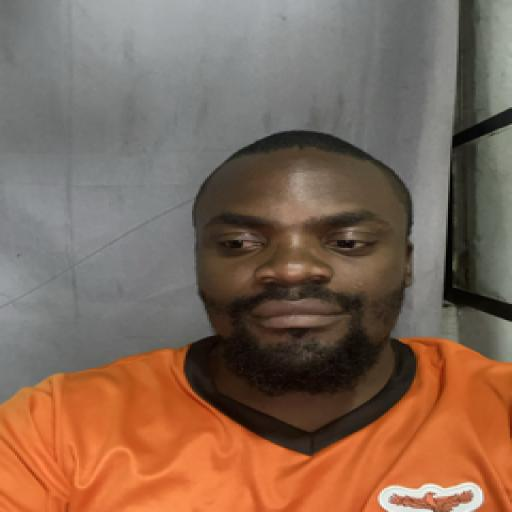JEANLUC: (176, 128, 454, 401)
